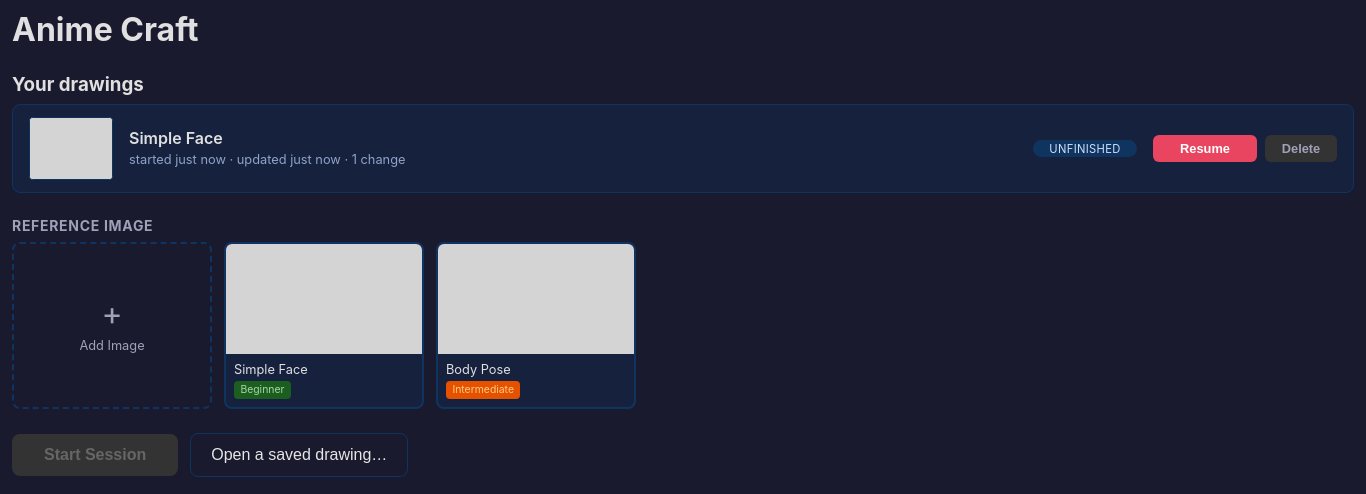
HomePage › drops a drawing from the list when it is deleted
The image size is (1366, 494).
Expected: the list item with test id "resume-item-session-042" is shown, [12,104,1354,193]
Click the button with test id "resume-delete-session-042" at [1301, 148], box [1265,135,1337,162]
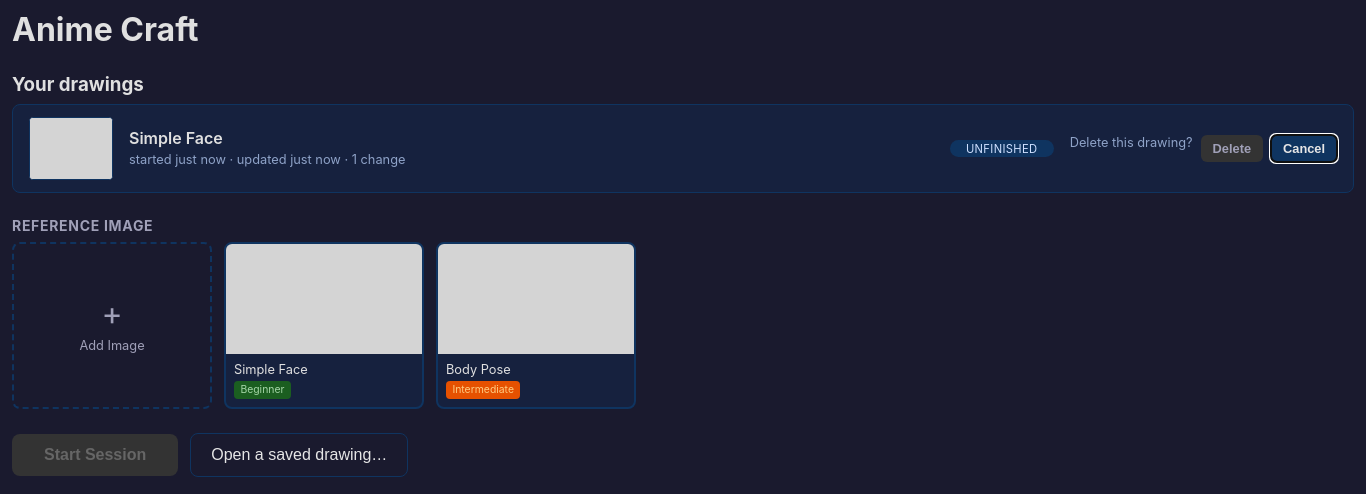
Click the button with test id "resume-delete-confirm-session-042" at [1232, 148], box [1201,135,1263,162]
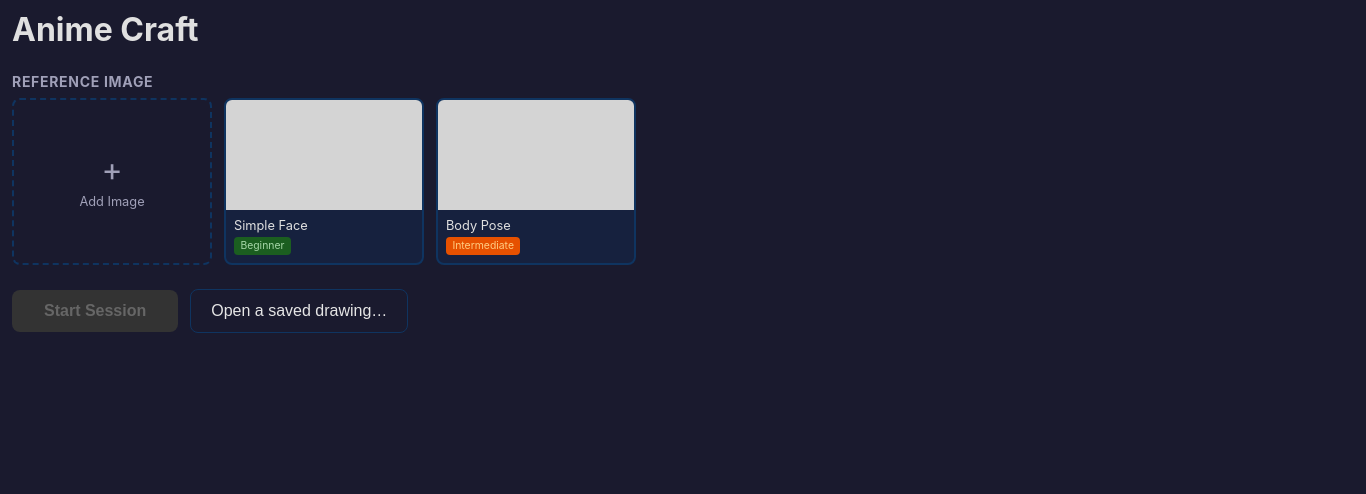
Expected: the element with test id "resume-sessions" is gone
